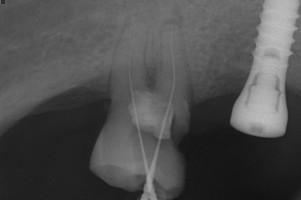Endo-Periodontal Lesion: (143, 64, 159, 89)
